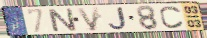7: (26, 8, 46, 34)
8: (136, 4, 160, 31)
C: (159, 5, 186, 29)
J: (107, 6, 129, 31)
N: (46, 8, 79, 33)
V: (75, 6, 101, 32)
